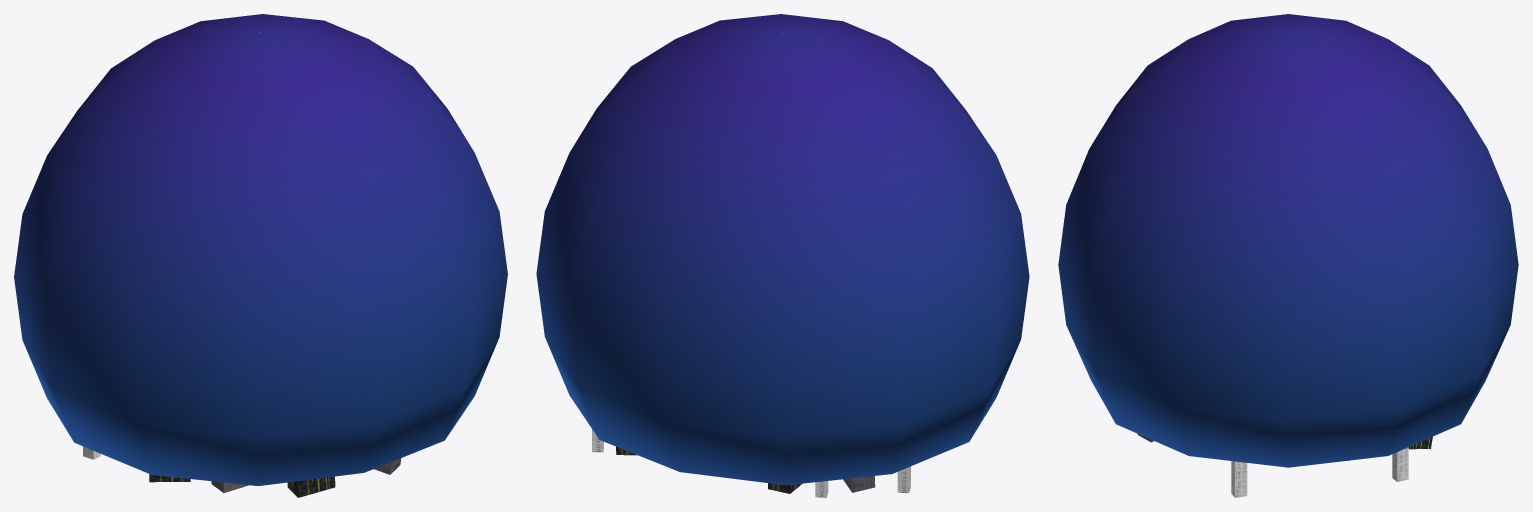
File: sky2.fbx
3 views of the same model, side by side, from view 1: azimuth 30°, elevation 25°; view 2: azimuth 150°, elevation 25°; view 3: azimuth 270°, elevation 25° (orthographic). The views are drawn at different scales.
Parts seen in each view (by area): view 1: Skysphere; view 2: Skysphere; view 3: Skysphere.
Boxes of the visible parts, x1,y1,x2,y2 form: Skysphere: (14, 14, 507, 497); Skysphere: (536, 14, 1029, 497); Skysphere: (1058, 14, 1518, 497).
Size of the model in its own units: 133333 by 120032 by 129210.
